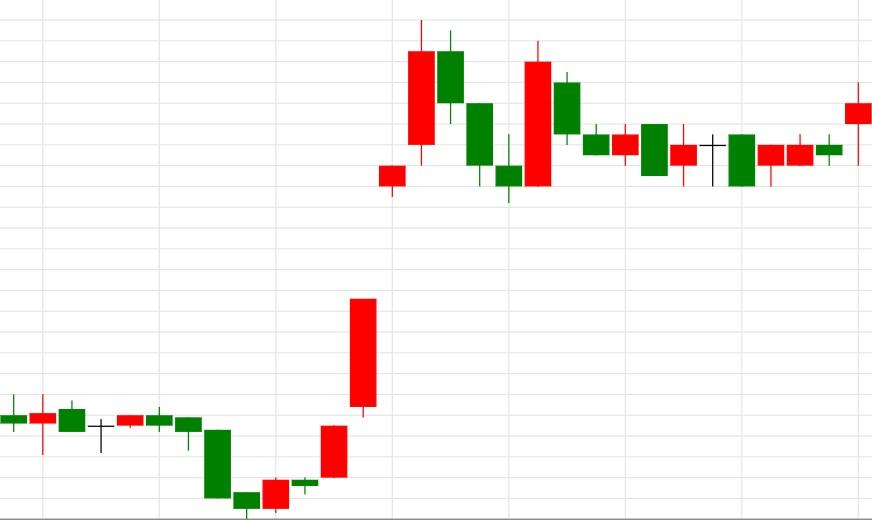three_black_crows_fall: (233, 20, 523, 519)
